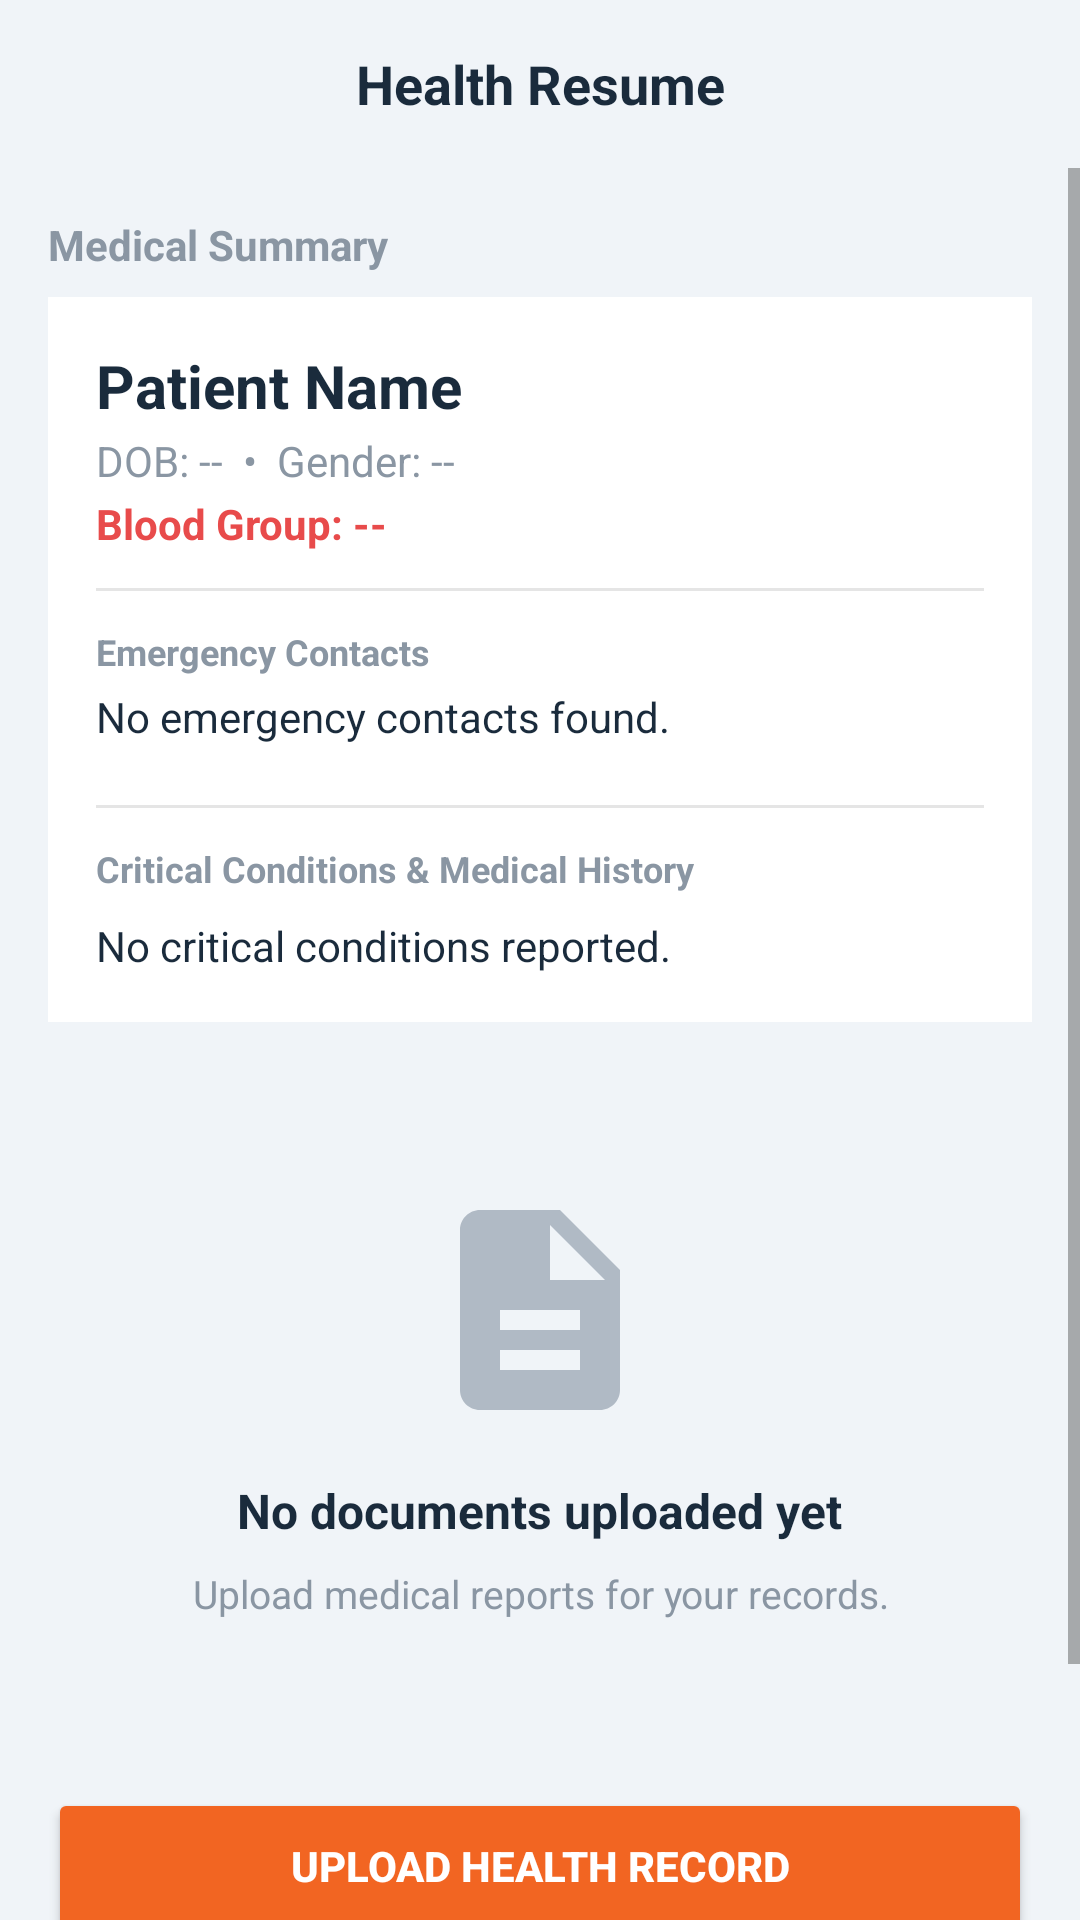

Icons on this 1080 x 1920 Android screen, each with the point to tap as [x,y]:
resume: [540,1310]
